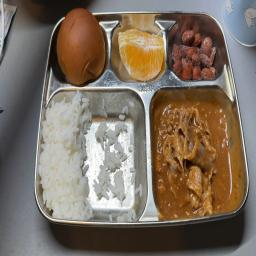100_bread: (52, 2, 107, 82)
100_nuts: (168, 21, 216, 82)
100_orange: (116, 19, 165, 83)
50_rice: (37, 94, 143, 220)
75_beef: (152, 98, 242, 215)
